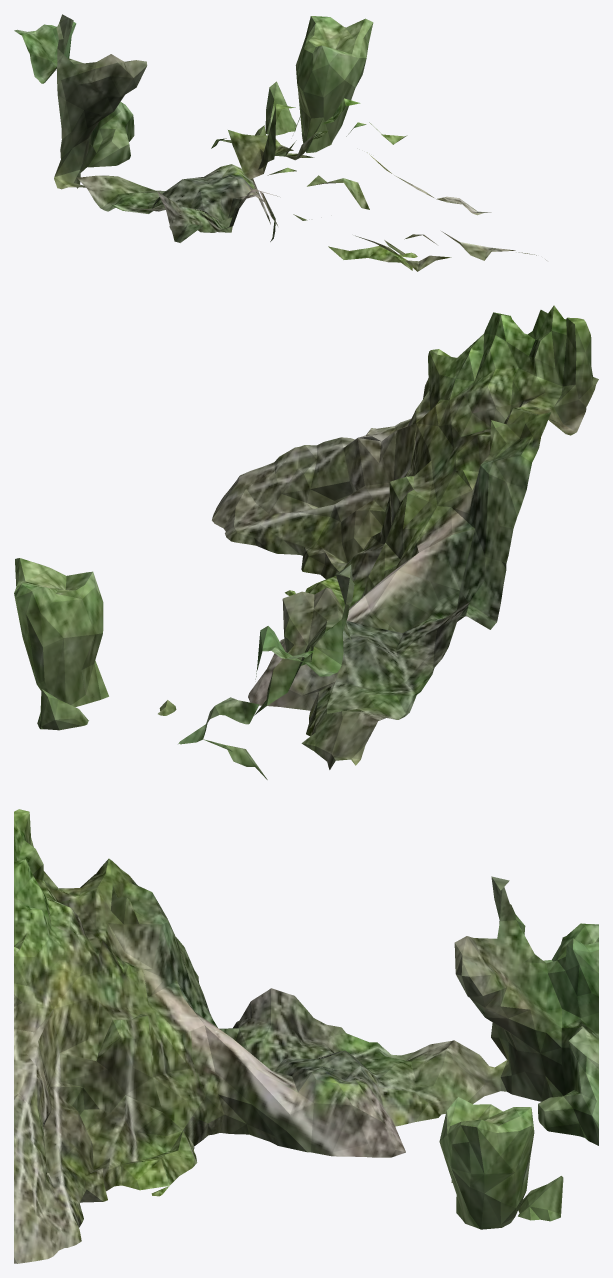
3 renders of one model, top to bottom at view 1: azimuth 30°, elevation 25°; view 2: azimuth 150°, elevation 25°; view 3: azimuth 270°, elevation 25°, orthographic. The views are drawn at different scales.
Size of the model in its own units: 4.42 by 3.13 by 5.9.
2 materials, 2 textured.
